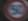Speed Limit -50-: (0, 0, 27, 20)
